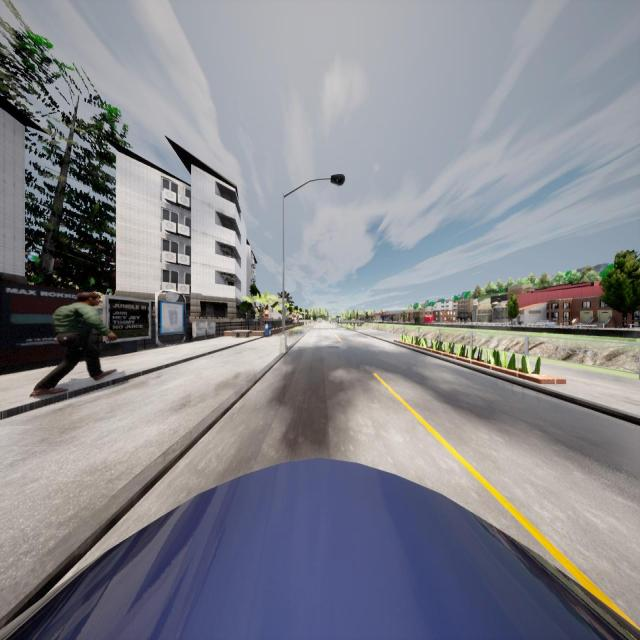Pedestrian: (30, 289, 116, 396)
Vehicle: (1, 458, 640, 640), (318, 317, 322, 323)
